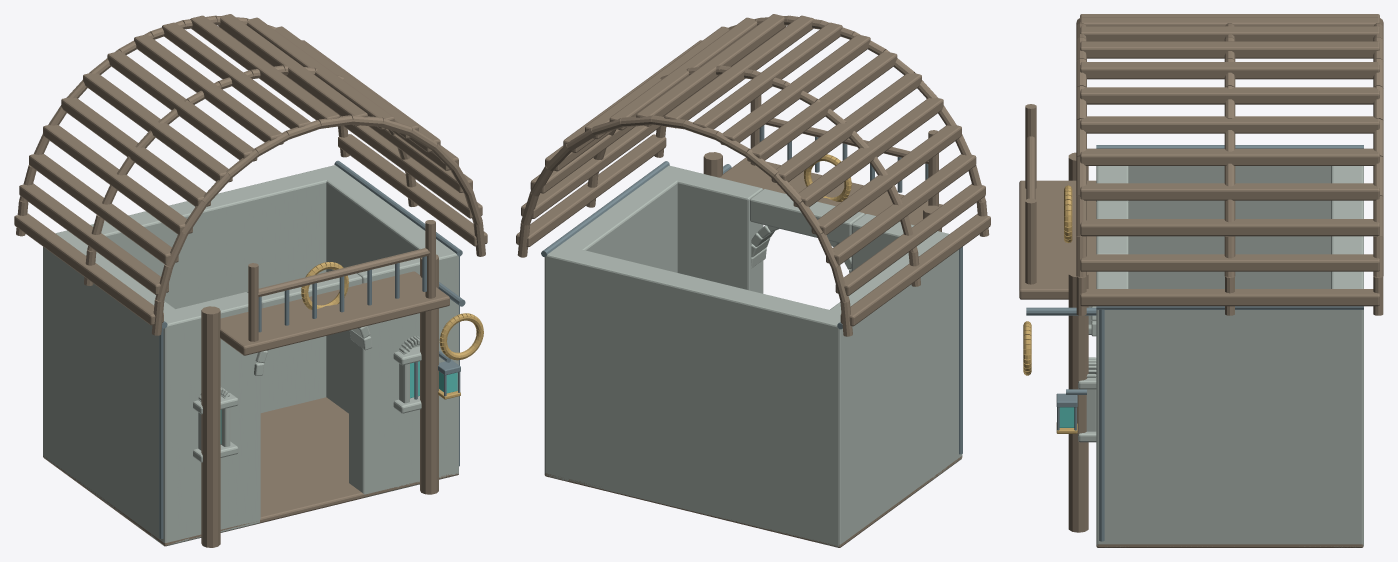
The model's file is a5_service_5.glb.
The picture shows the model from 3 angles, left to right: view 1: azimuth 30°, elevation 25°; view 2: azimuth 150°, elevation 25°; view 3: azimuth 270°, elevation 25°; orthographic projection. The views are drawn at different scales.
Visible parts, largest first — view 1: Roof.023, Front.023, Side.023, Body.050; view 2: Body.050, Roof.023, Side.023, Front.023; view 3: Side.023, Roof.023, Front.023, Body.050.
Boxes of the visible parts, <box> form: Roof.023: <box>14,14,487,355</box>; Front.023: <box>150,244,483,547</box>; Side.023: <box>43,166,459,545</box>; Body.050: <box>43,165,458,546</box>; Body.050: <box>544,244,962,547</box>; Roof.023: <box>516,14,990,336</box>; Side.023: <box>545,165,962,547</box>; Front.023: <box>657,152,960,456</box>; Side.023: <box>1096,166,1361,546</box>; Roof.023: <box>1019,14,1383,315</box>; Front.023: <box>1023,152,1128,547</box>; Body.050: <box>1096,166,1363,547</box>.
Size of the model in its own units: 3.66 by 4.11 by 3.13.
